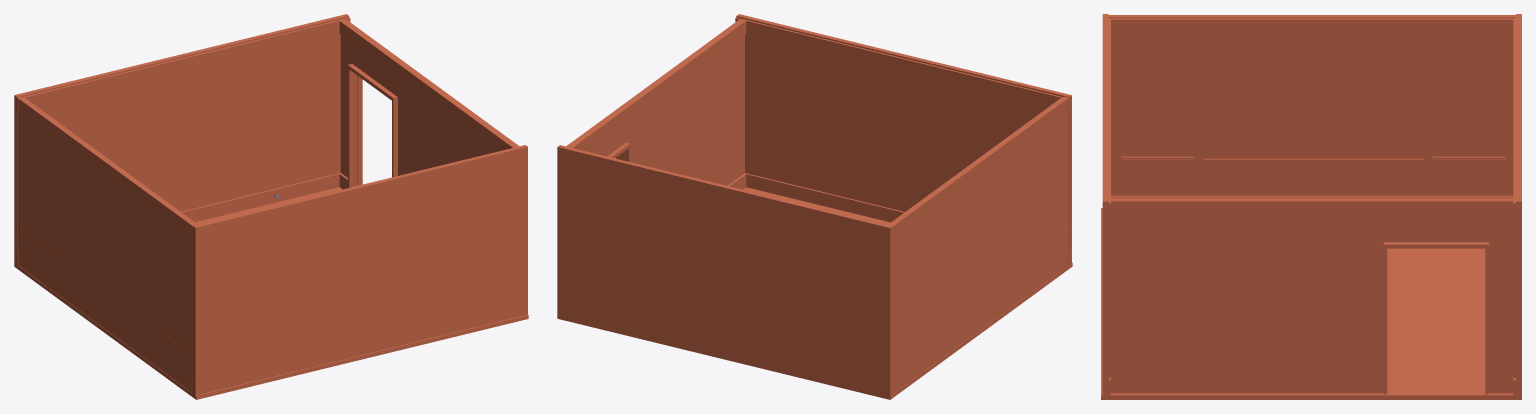
3 views of the same model, side by side, from view 1: azimuth 30°, elevation 25°; view 2: azimuth 150°, elevation 25°; view 3: azimuth 270°, elevation 25° (orthographic). The views are drawn at different scales.
Visible parts, largest first — view 1: porch_floorCenter (×19); view 2: porch_floorCenter (×15); view 3: porch_floorCenter (×28).
Boxes of the visible parts, x1,y1,x2,y2 form: porch_floorCenter (×19): (14,14,528,399); porch_floorCenter (×15): (557,14,1072,399); porch_floorCenter (×28): (1101,14,1521,399).
Bounding box in the file's own units: 88.8 × 43.8 × 84.21.
